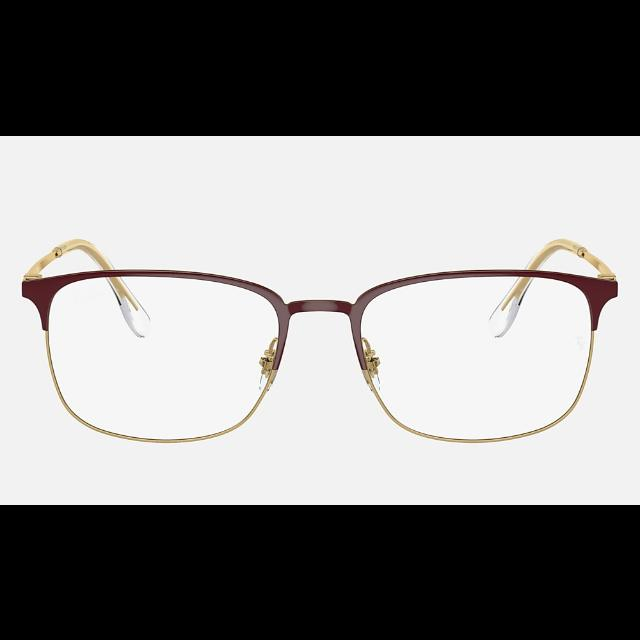glasses: (20, 238, 614, 442)
